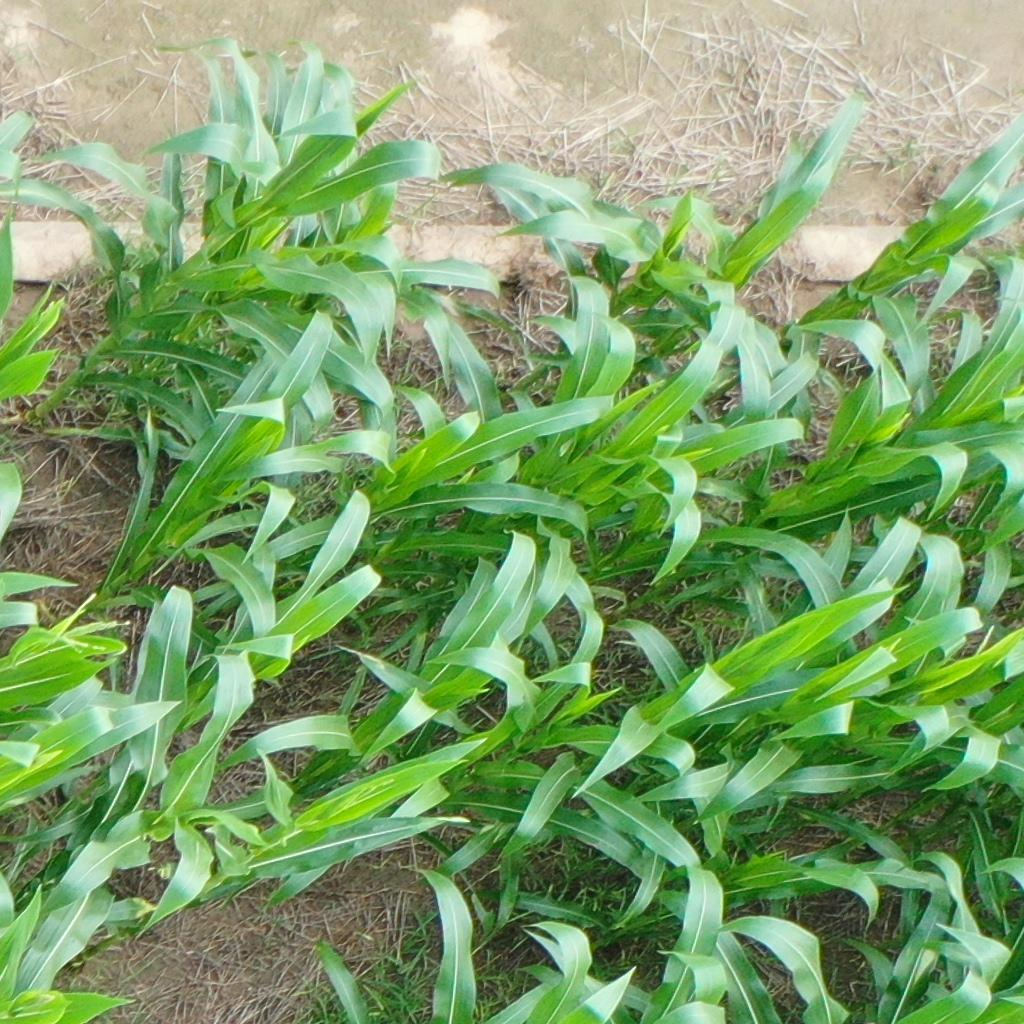Tassel: (46, 590, 134, 657)
